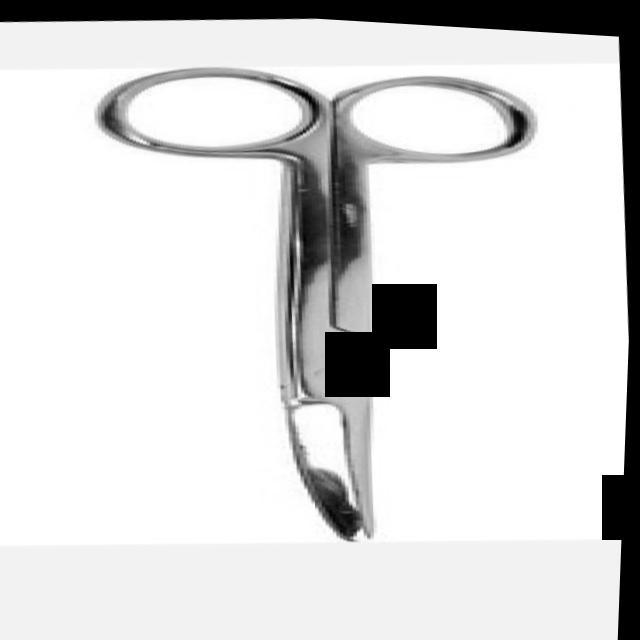Curved Mayo: (64, 34, 570, 564)
